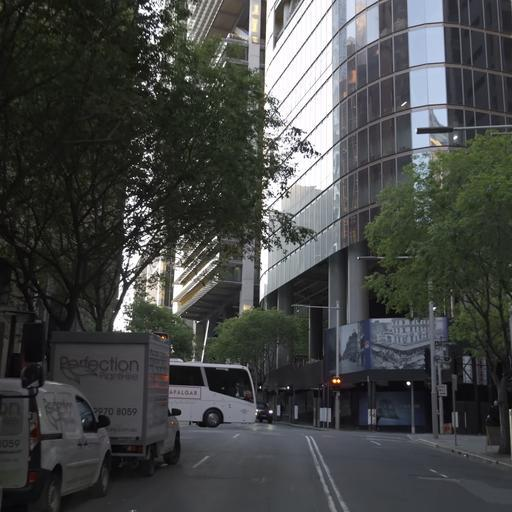Street light: (415, 121, 511, 460), (355, 252, 439, 438), (290, 300, 341, 428), (415, 123, 511, 136), (355, 254, 412, 261)
